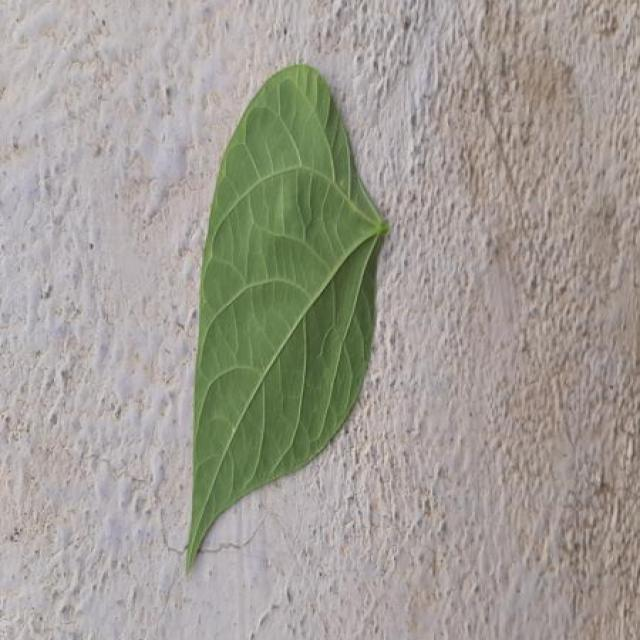beans: (187, 65, 388, 567)
